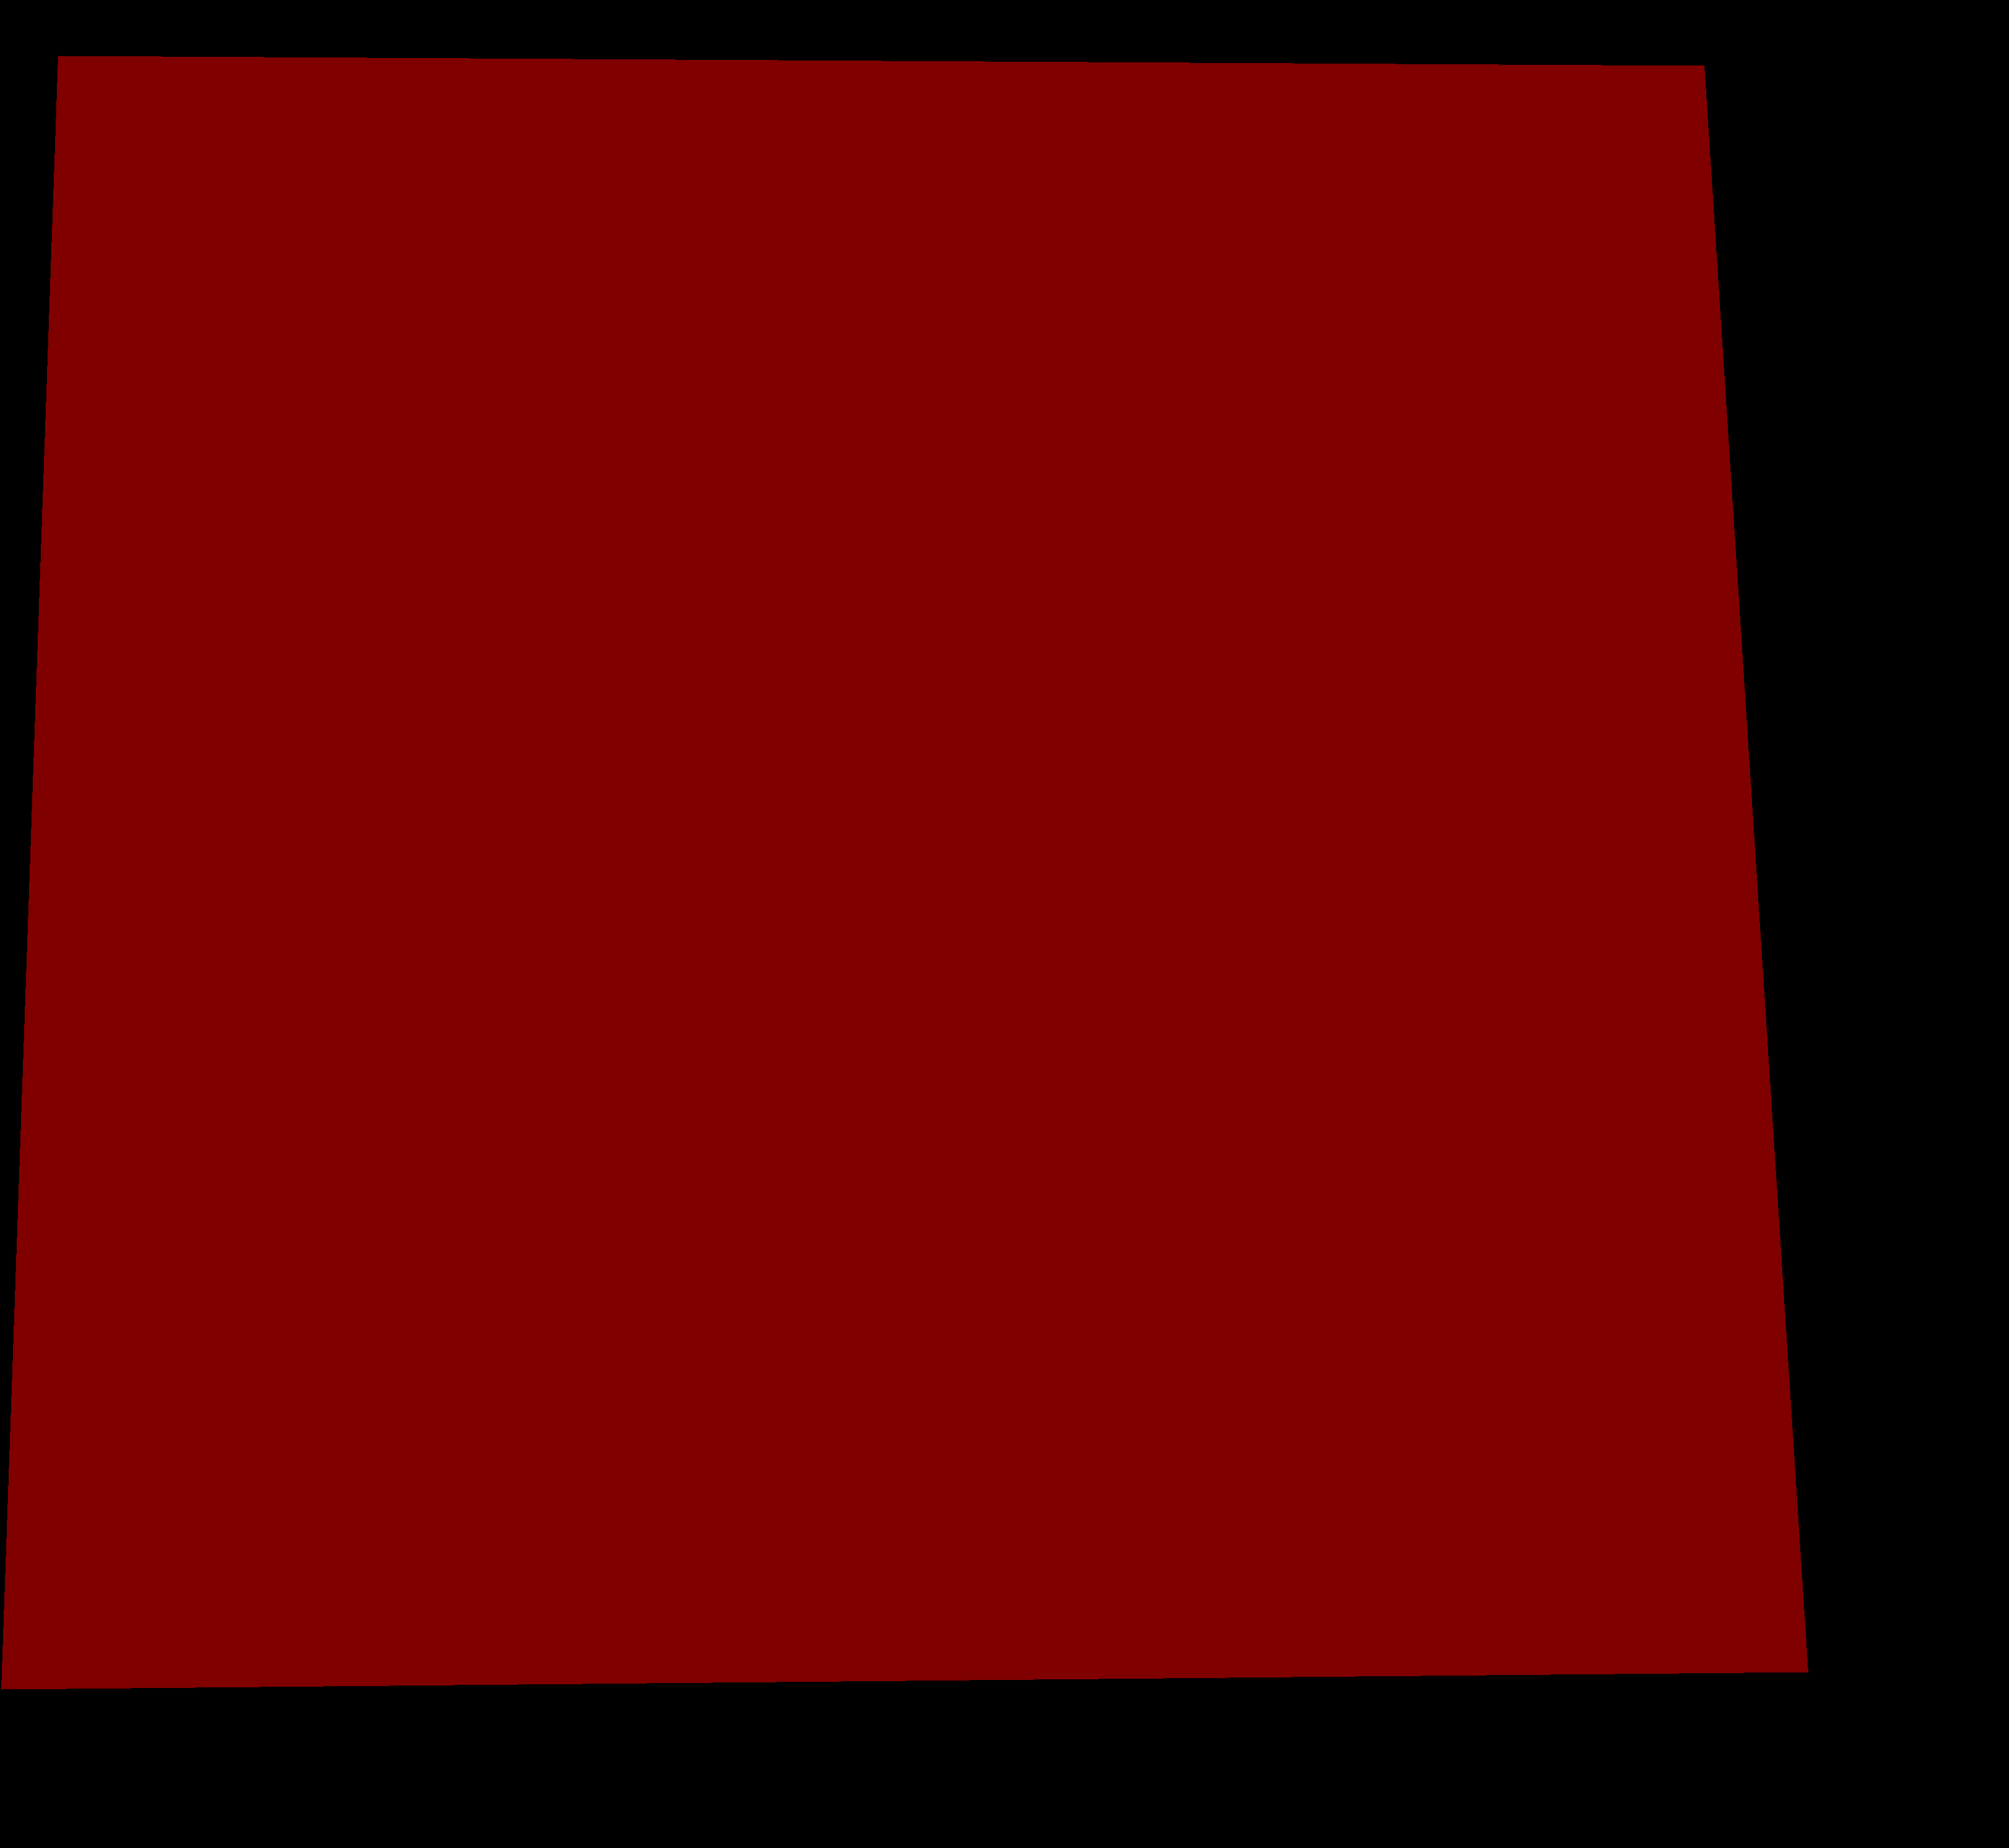sign: (2, 56, 1808, 1689)
